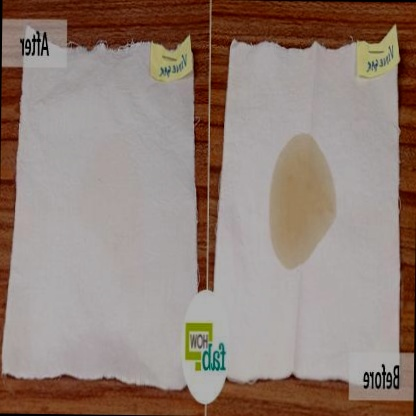coffee: (272, 144, 330, 243)
